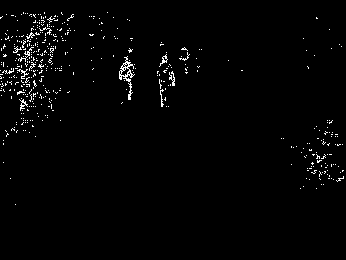person: (154, 54, 176, 109)
